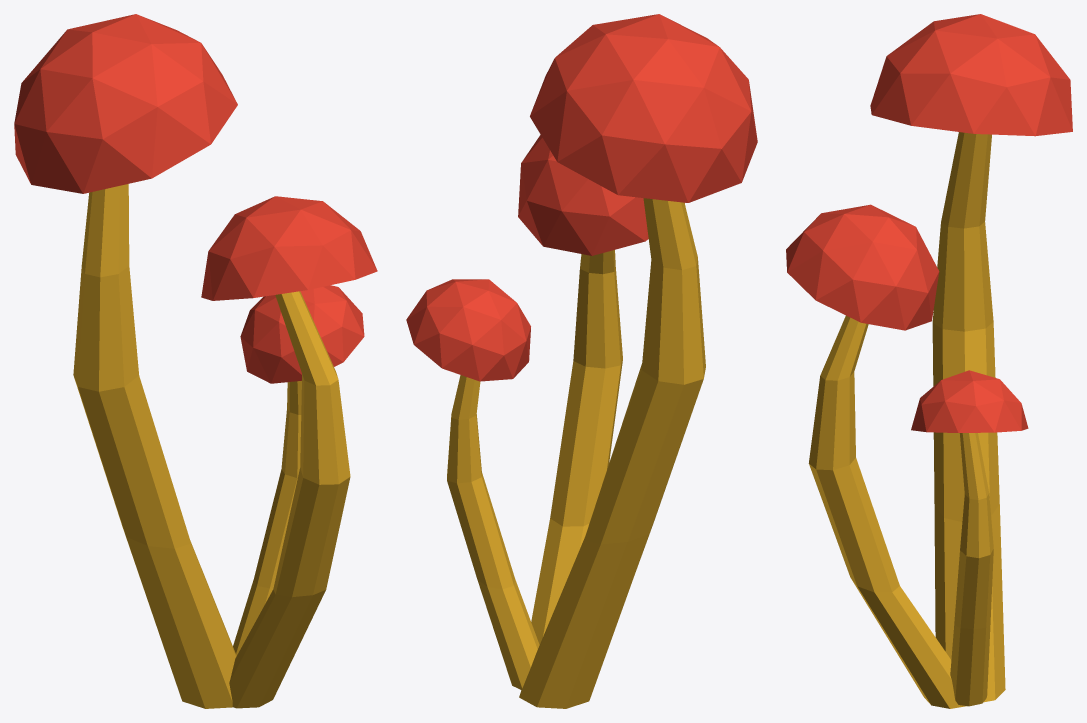
The model's file is mushroom_3.glb.
3 renders of one model, left to right at view 1: azimuth 30°, elevation 25°; view 2: azimuth 150°, elevation 25°; view 3: azimuth 270°, elevation 25°, orthographic. The views are drawn at different scales.
Visible parts, largest first — view 1: mushroom_3; view 2: mushroom_3; view 3: mushroom_3.
Part boxes in pixels (x1,y1,x2,y2): mushroom_3: (14, 14, 377, 708); mushroom_3: (406, 14, 757, 708); mushroom_3: (786, 14, 1072, 708).
Bounding box in the file's own units: 0.3336 × 0.6721 × 0.2802.
